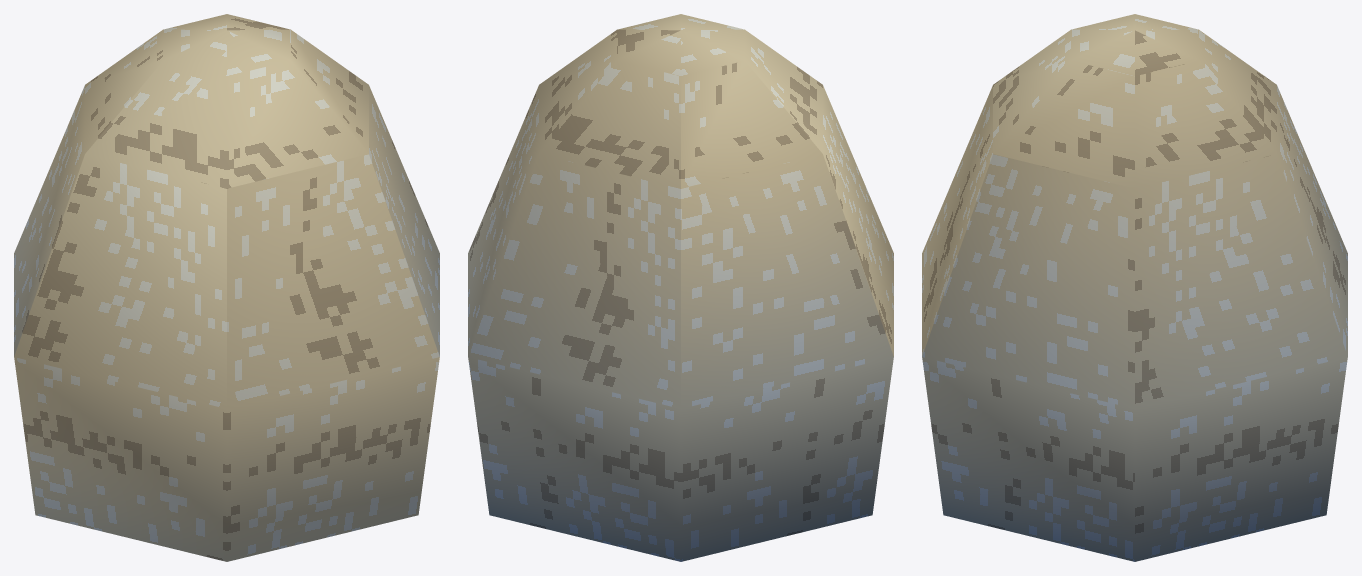
File: mprop.sack.glb
3 views of the same model, side by side, from view 1: azimuth 30°, elevation 25°; view 2: azimuth 150°, elevation 25°; view 3: azimuth 270°, elevation 25° (orthographic).
Parts seen in each view (by area): view 1: kit_sacks; view 2: kit_sacks; view 3: kit_sacks.
Part boxes in pixels (x1,y1,x2,y2): kit_sacks: [14, 14, 439, 561]; kit_sacks: [468, 14, 893, 561]; kit_sacks: [922, 14, 1347, 561].
Bounding box in the file's own units: 0.6 × 0.62 × 0.5196.
2 materials, 2 textured.
